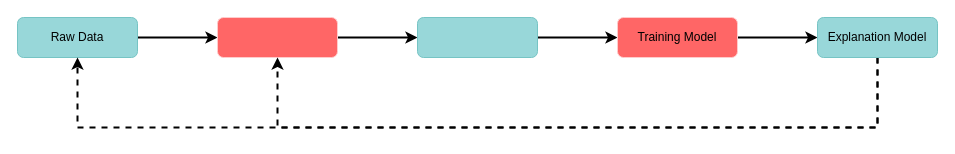
This 955x154 diagram has some shape labels left out. The box of each missing label's shape, as (x1, y1, x2, y2) in pixels:
Feature Engineering: (416, 16, 538, 58)
Pre-process: (216, 16, 338, 58)
